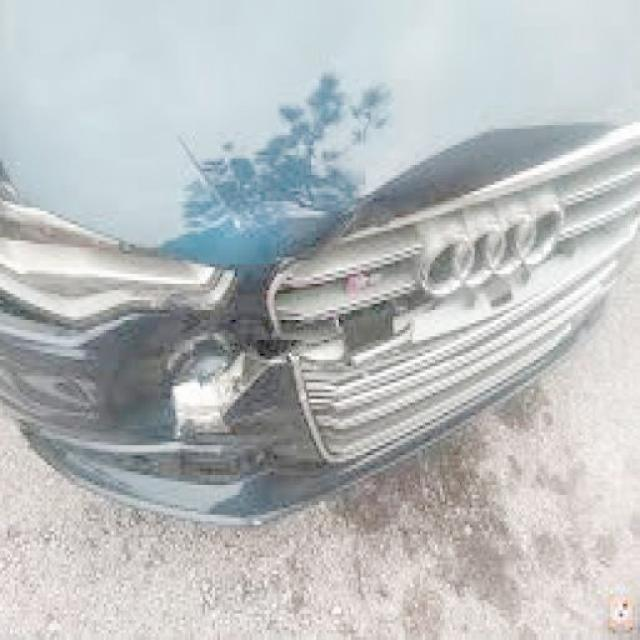car damage: (154, 205, 421, 445)
